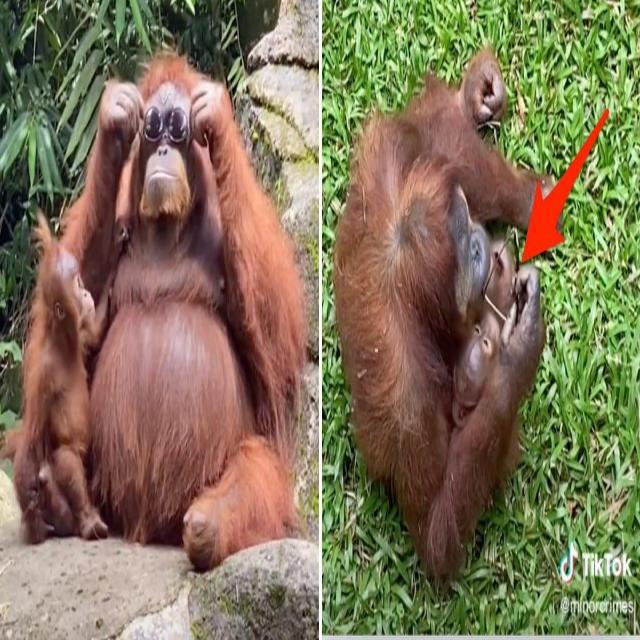Chimpanzee: (91, 29, 287, 544), (15, 213, 108, 539)
